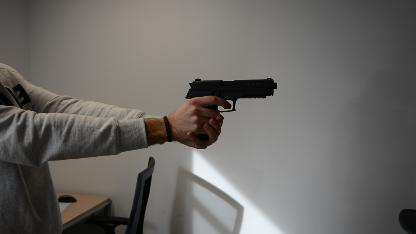pistol: (184, 77, 276, 113)
